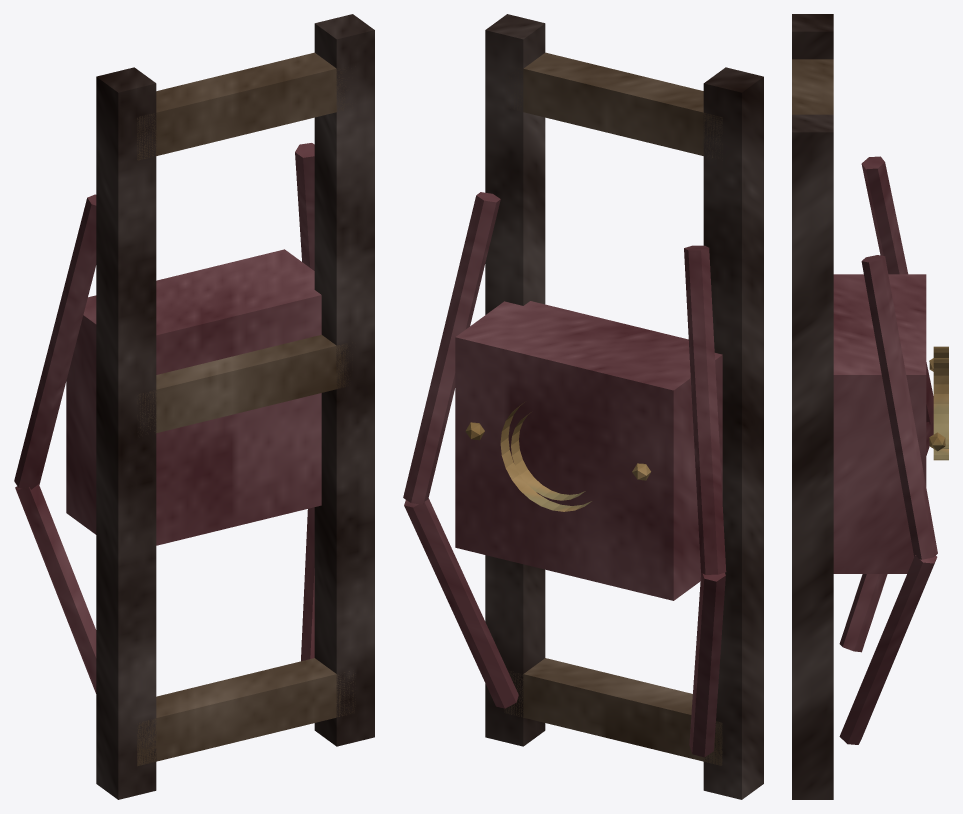
Rendered from 0828_carrier_frame_03.glb.
3 renders of one model, left to right at view 1: azimuth 30°, elevation 25°; view 2: azimuth 150°, elevation 25°; view 3: azimuth 270°, elevation 25°, orthographic. The views are drawn at different scales.
Visible parts, largest first — view 1: wood_dark, cloth, wood; view 2: cloth, wood_dark, wood, brass; view 3: cloth, wood_dark, wood, brass.
Part boxes in pixels (x1,y1,x2,y2): wood_dark: (96,14,374,799); cloth: (14,143,321,693); wood: (137,52,355,766); cloth: (403,192,726,757); wood_dark: (485,14,763,799); wood: (504,52,722,765); brass: (465,402,650,511); cloth: (833,156,937,744); wood_dark: (792,14,833,799); wood: (792,59,833,114); brass: (929,346,948,460).
Size of the model in its own units: 0.921 by 1.95 by 0.415.
Materials: 4 (4 with a texture image).
